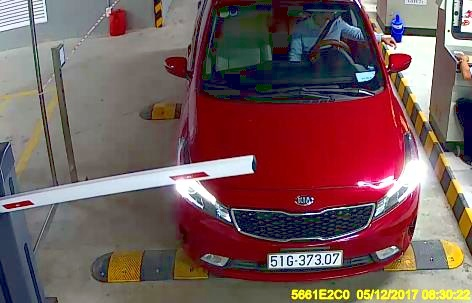plate: (265, 241, 343, 272)
